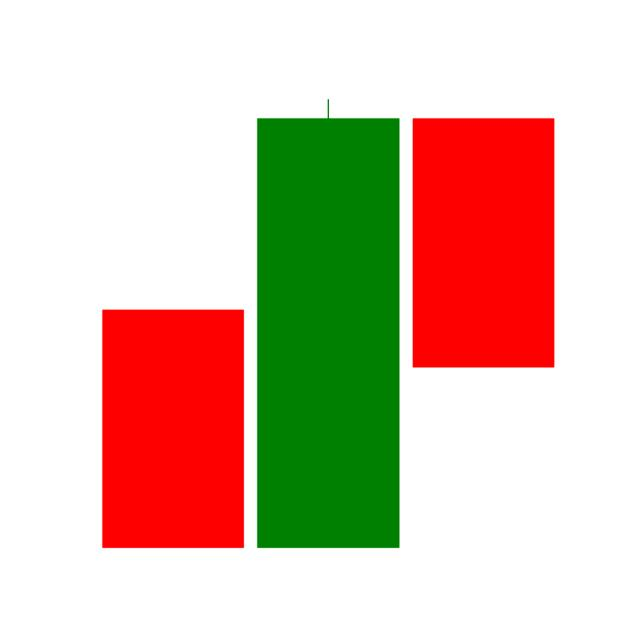Bearish Marubozu: (412, 118, 555, 367), (104, 312, 243, 547)
